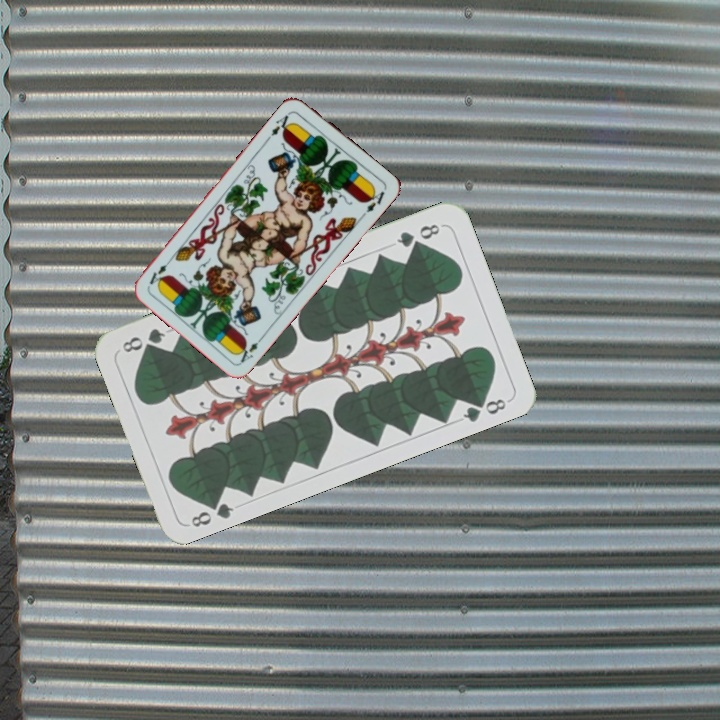EA: (234, 332, 267, 365), (263, 108, 295, 142)
G8: (187, 493, 237, 530), (392, 219, 445, 250)
